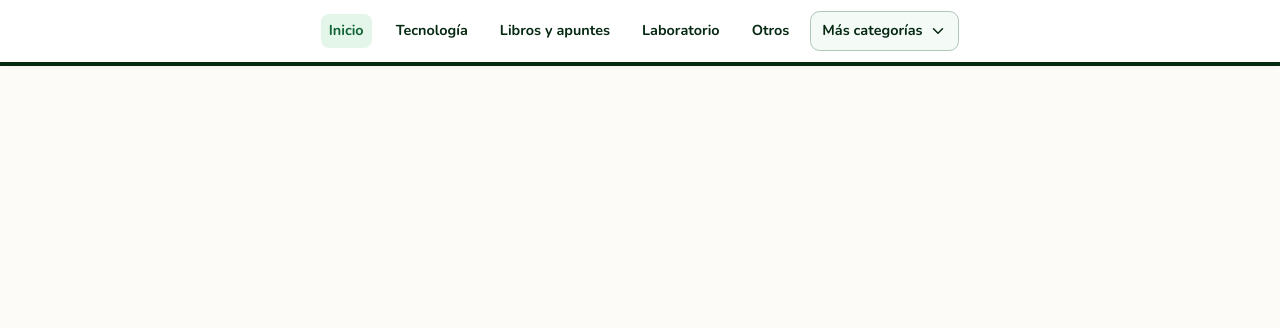
Test: shows Others and exposes every publication category through the dropdown
Click the button "Más categorías": {"x": 885, "y": 31} left=810, top=11, right=959, bottom=51
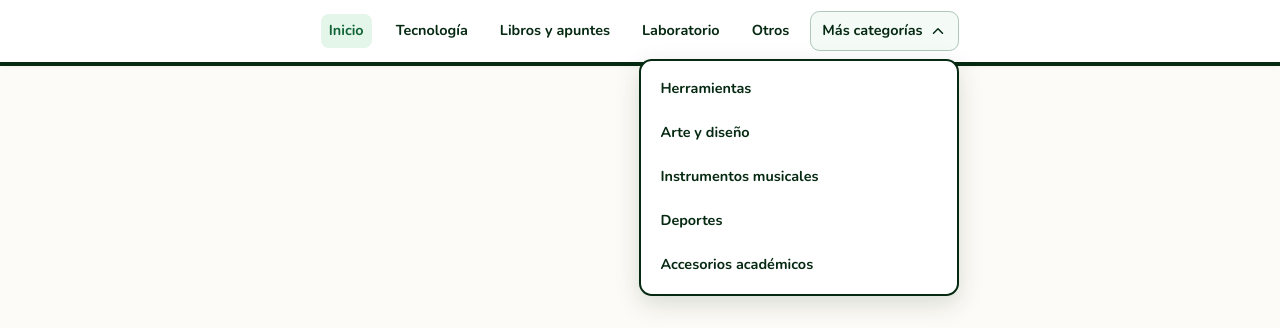
Now the link "Herramientas" is shown, box left=660, top=78, right=751, bottom=98
Now the link "Arte y diseño" is shown, box left=660, top=122, right=750, bottom=142
Now the link "Instrumentos musicales" is shown, box left=660, top=166, right=818, bottom=186
